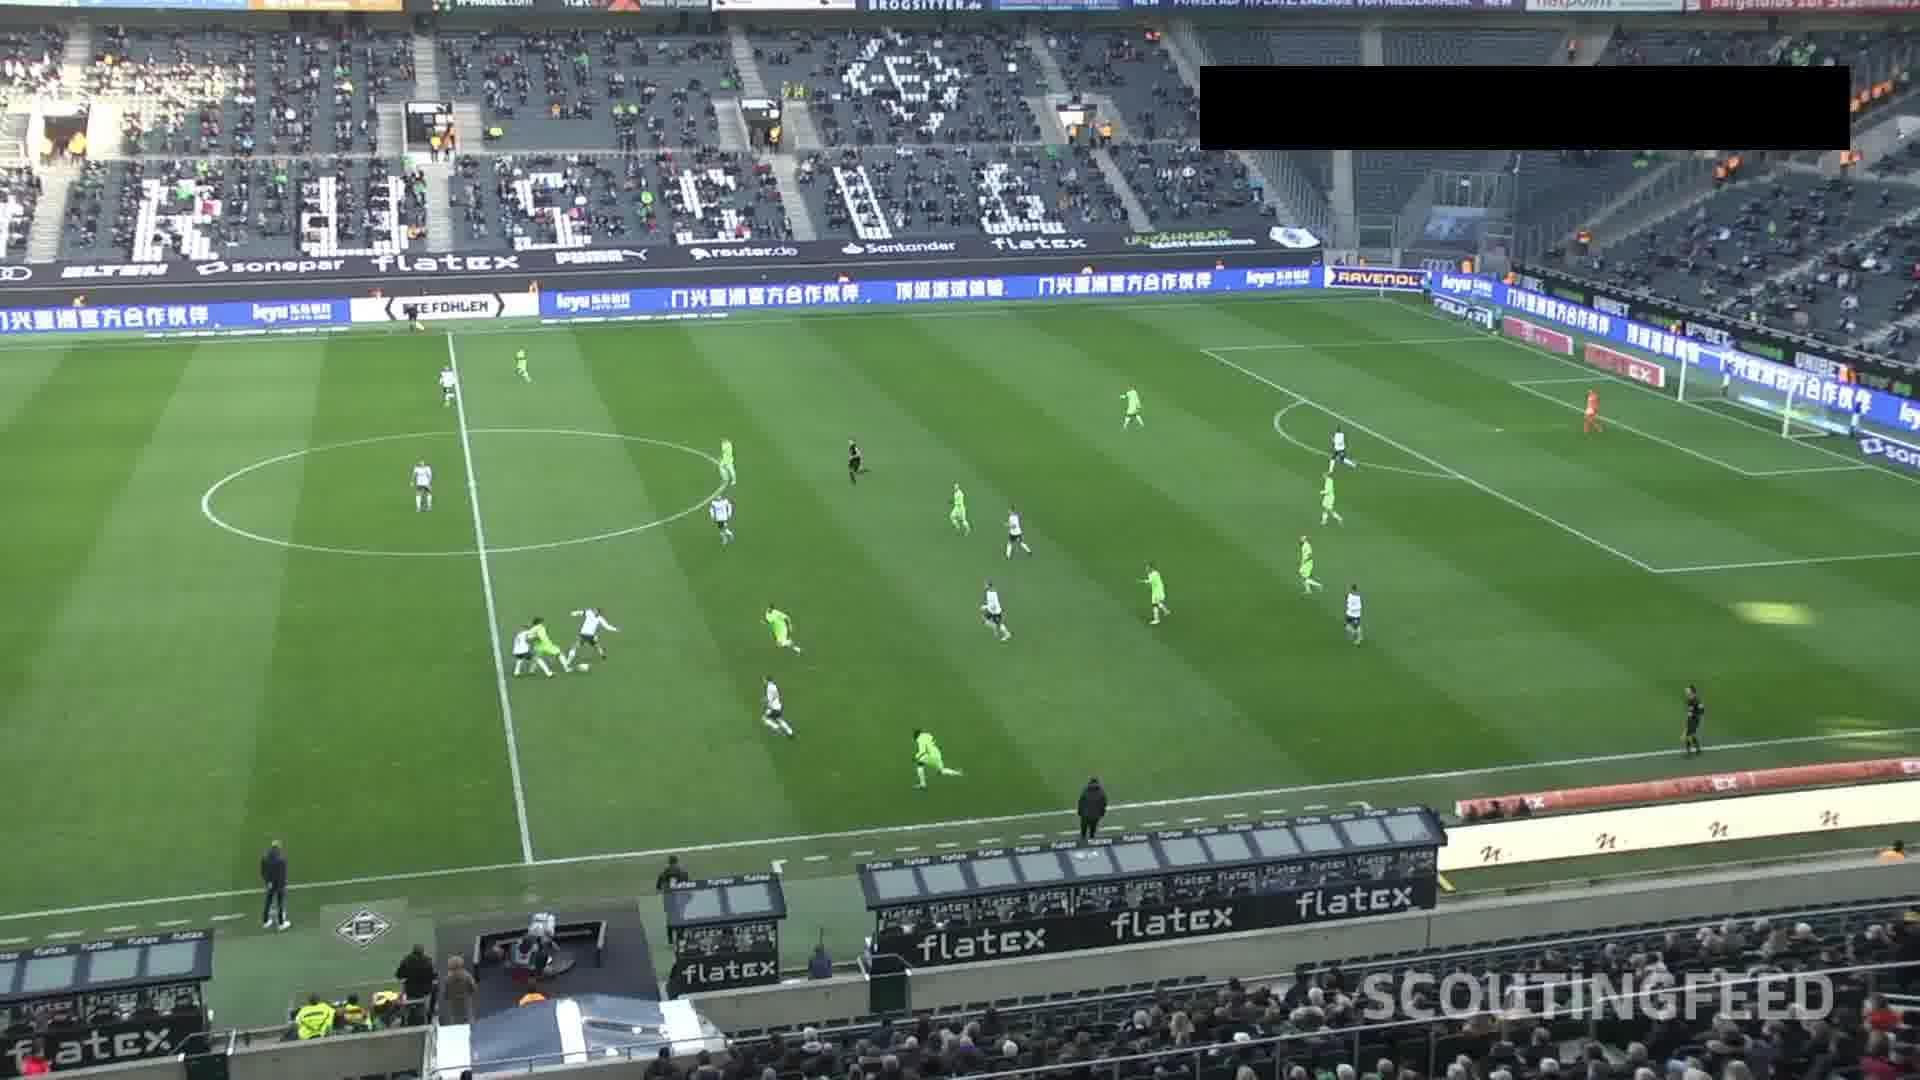football: (575, 662, 591, 674)
